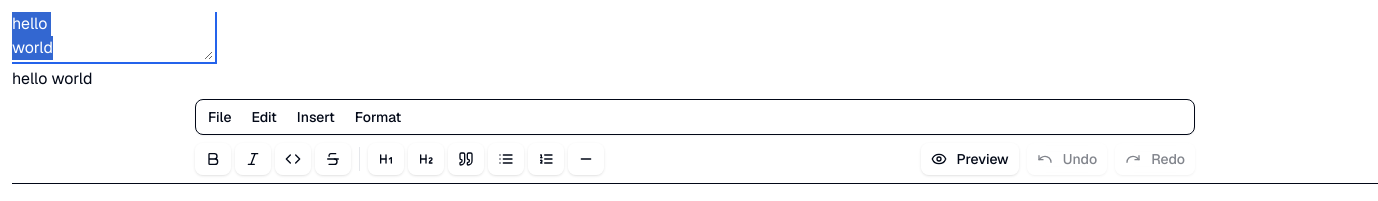
Test: EditorToolbar › quote then bullet nests as '- >' (boundary documented)
Click the button named "Blockquote": (466, 159) [448,143,484,175]
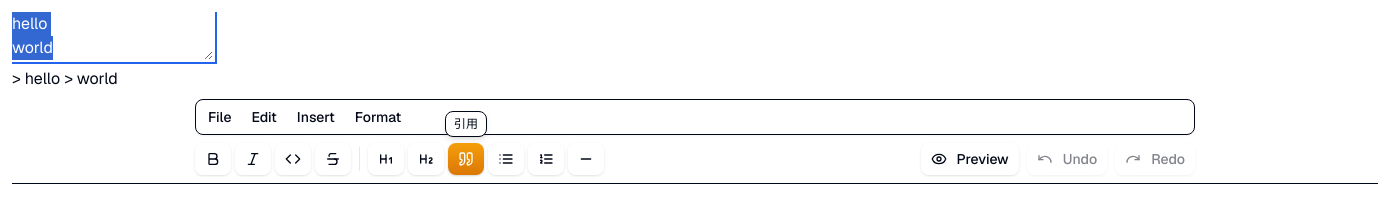
Click the button named "Bullet list": (506, 159) [488,143,524,175]
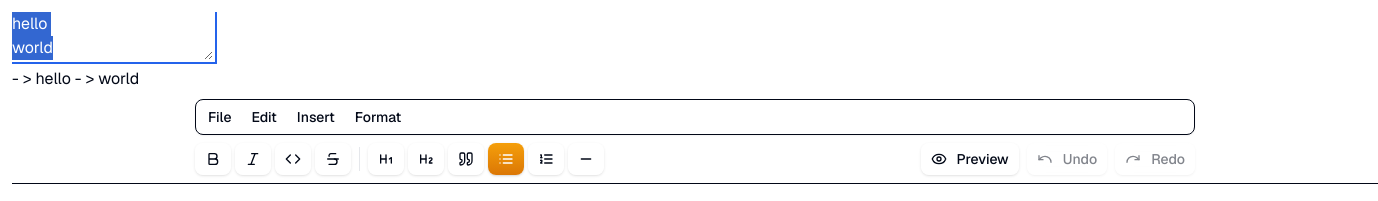
Result: the text with test id "value" reads "- > hello - > world" at [12,68,139,89]
